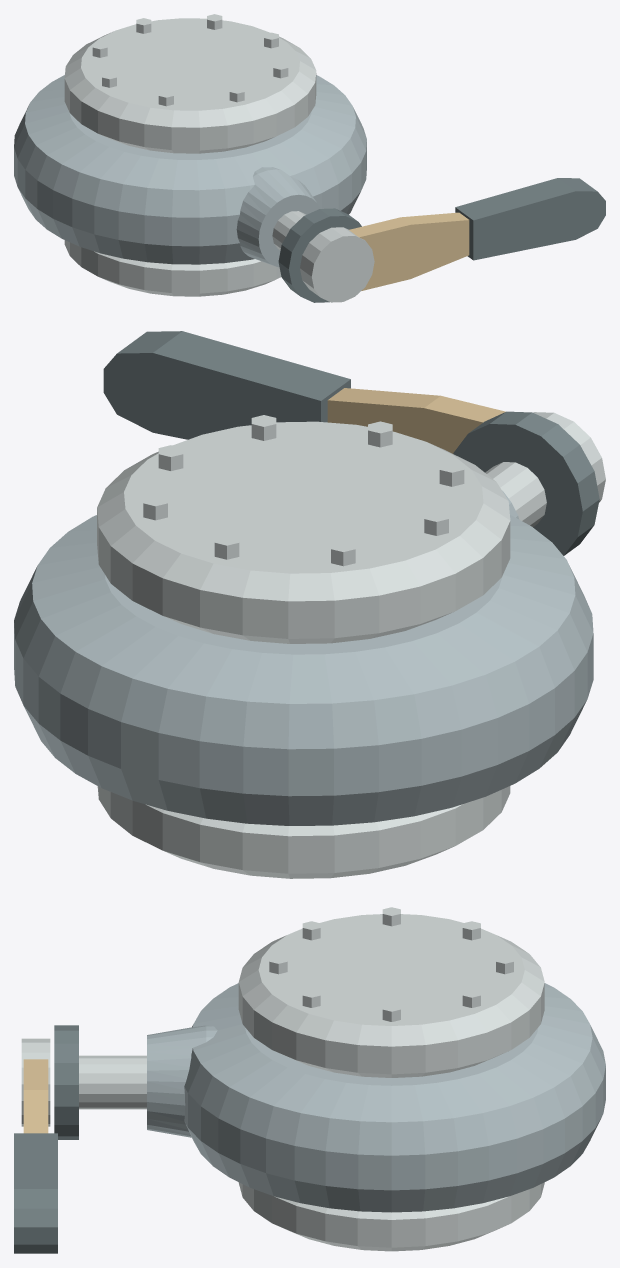
File: butterfly.glb
3 views of the same model, one above another, from view 1: azimuth 30°, elevation 25°; view 2: azimuth 150°, elevation 25°; view 3: azimuth 270°, elevation 25° (orthographic). The views are drawn at different scales.
Visible parts, largest first — view 1: body_body, body_metal, actuator_dark, actuator_brass, actuator_metal, body_dark; view 2: body_body, body_metal, actuator_dark, body_dark, actuator_brass, actuator_metal; view 3: body_body, body_metal, actuator_dark, body_dark, actuator_brass, actuator_metal.
Boxes of the visible parts, left/top/right/bottom form: body_body: left=14, top=75, right=366, bottom=267; body_metal: left=64, top=14, right=316, bottom=296; actuator_dark: left=455, top=178, right=605, bottom=260; actuator_brass: left=349, top=212, right=469, bottom=290; actuator_metal: left=300, top=227, right=374, bottom=302; body_dark: left=278, top=208, right=361, bottom=302; body_body: left=14, top=490, right=593, bottom=825; body_metal: left=97, top=415, right=546, bottom=878; actuator_dark: left=103, top=331, right=350, bottom=439; body_dark: left=453, top=411, right=599, bottom=555; actuator_brass: left=327, top=388, right=505, bottom=453; actuator_metal: left=533, top=412, right=605, bottom=502; body_body: left=147, top=983, right=605, bottom=1212; body_metal: left=79, top=907, right=544, bottom=1251; actuator_dark: left=14, top=1133, right=57, bottom=1253; body_dark: left=54, top=1025, right=78, bottom=1139; actuator_brass: left=23, top=1059, right=48, bottom=1133; actuator_metal: left=21, top=1038, right=50, bottom=1126.
Bounding box in the file's own units: 0.302 × 0.136 × 0.3095.
